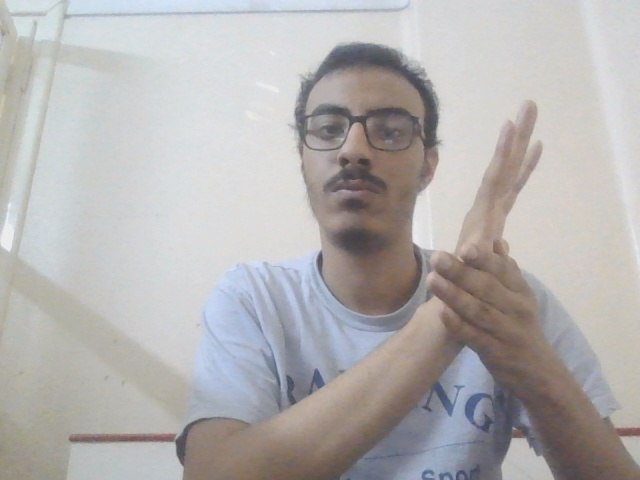Movie: (420, 90, 591, 398)
